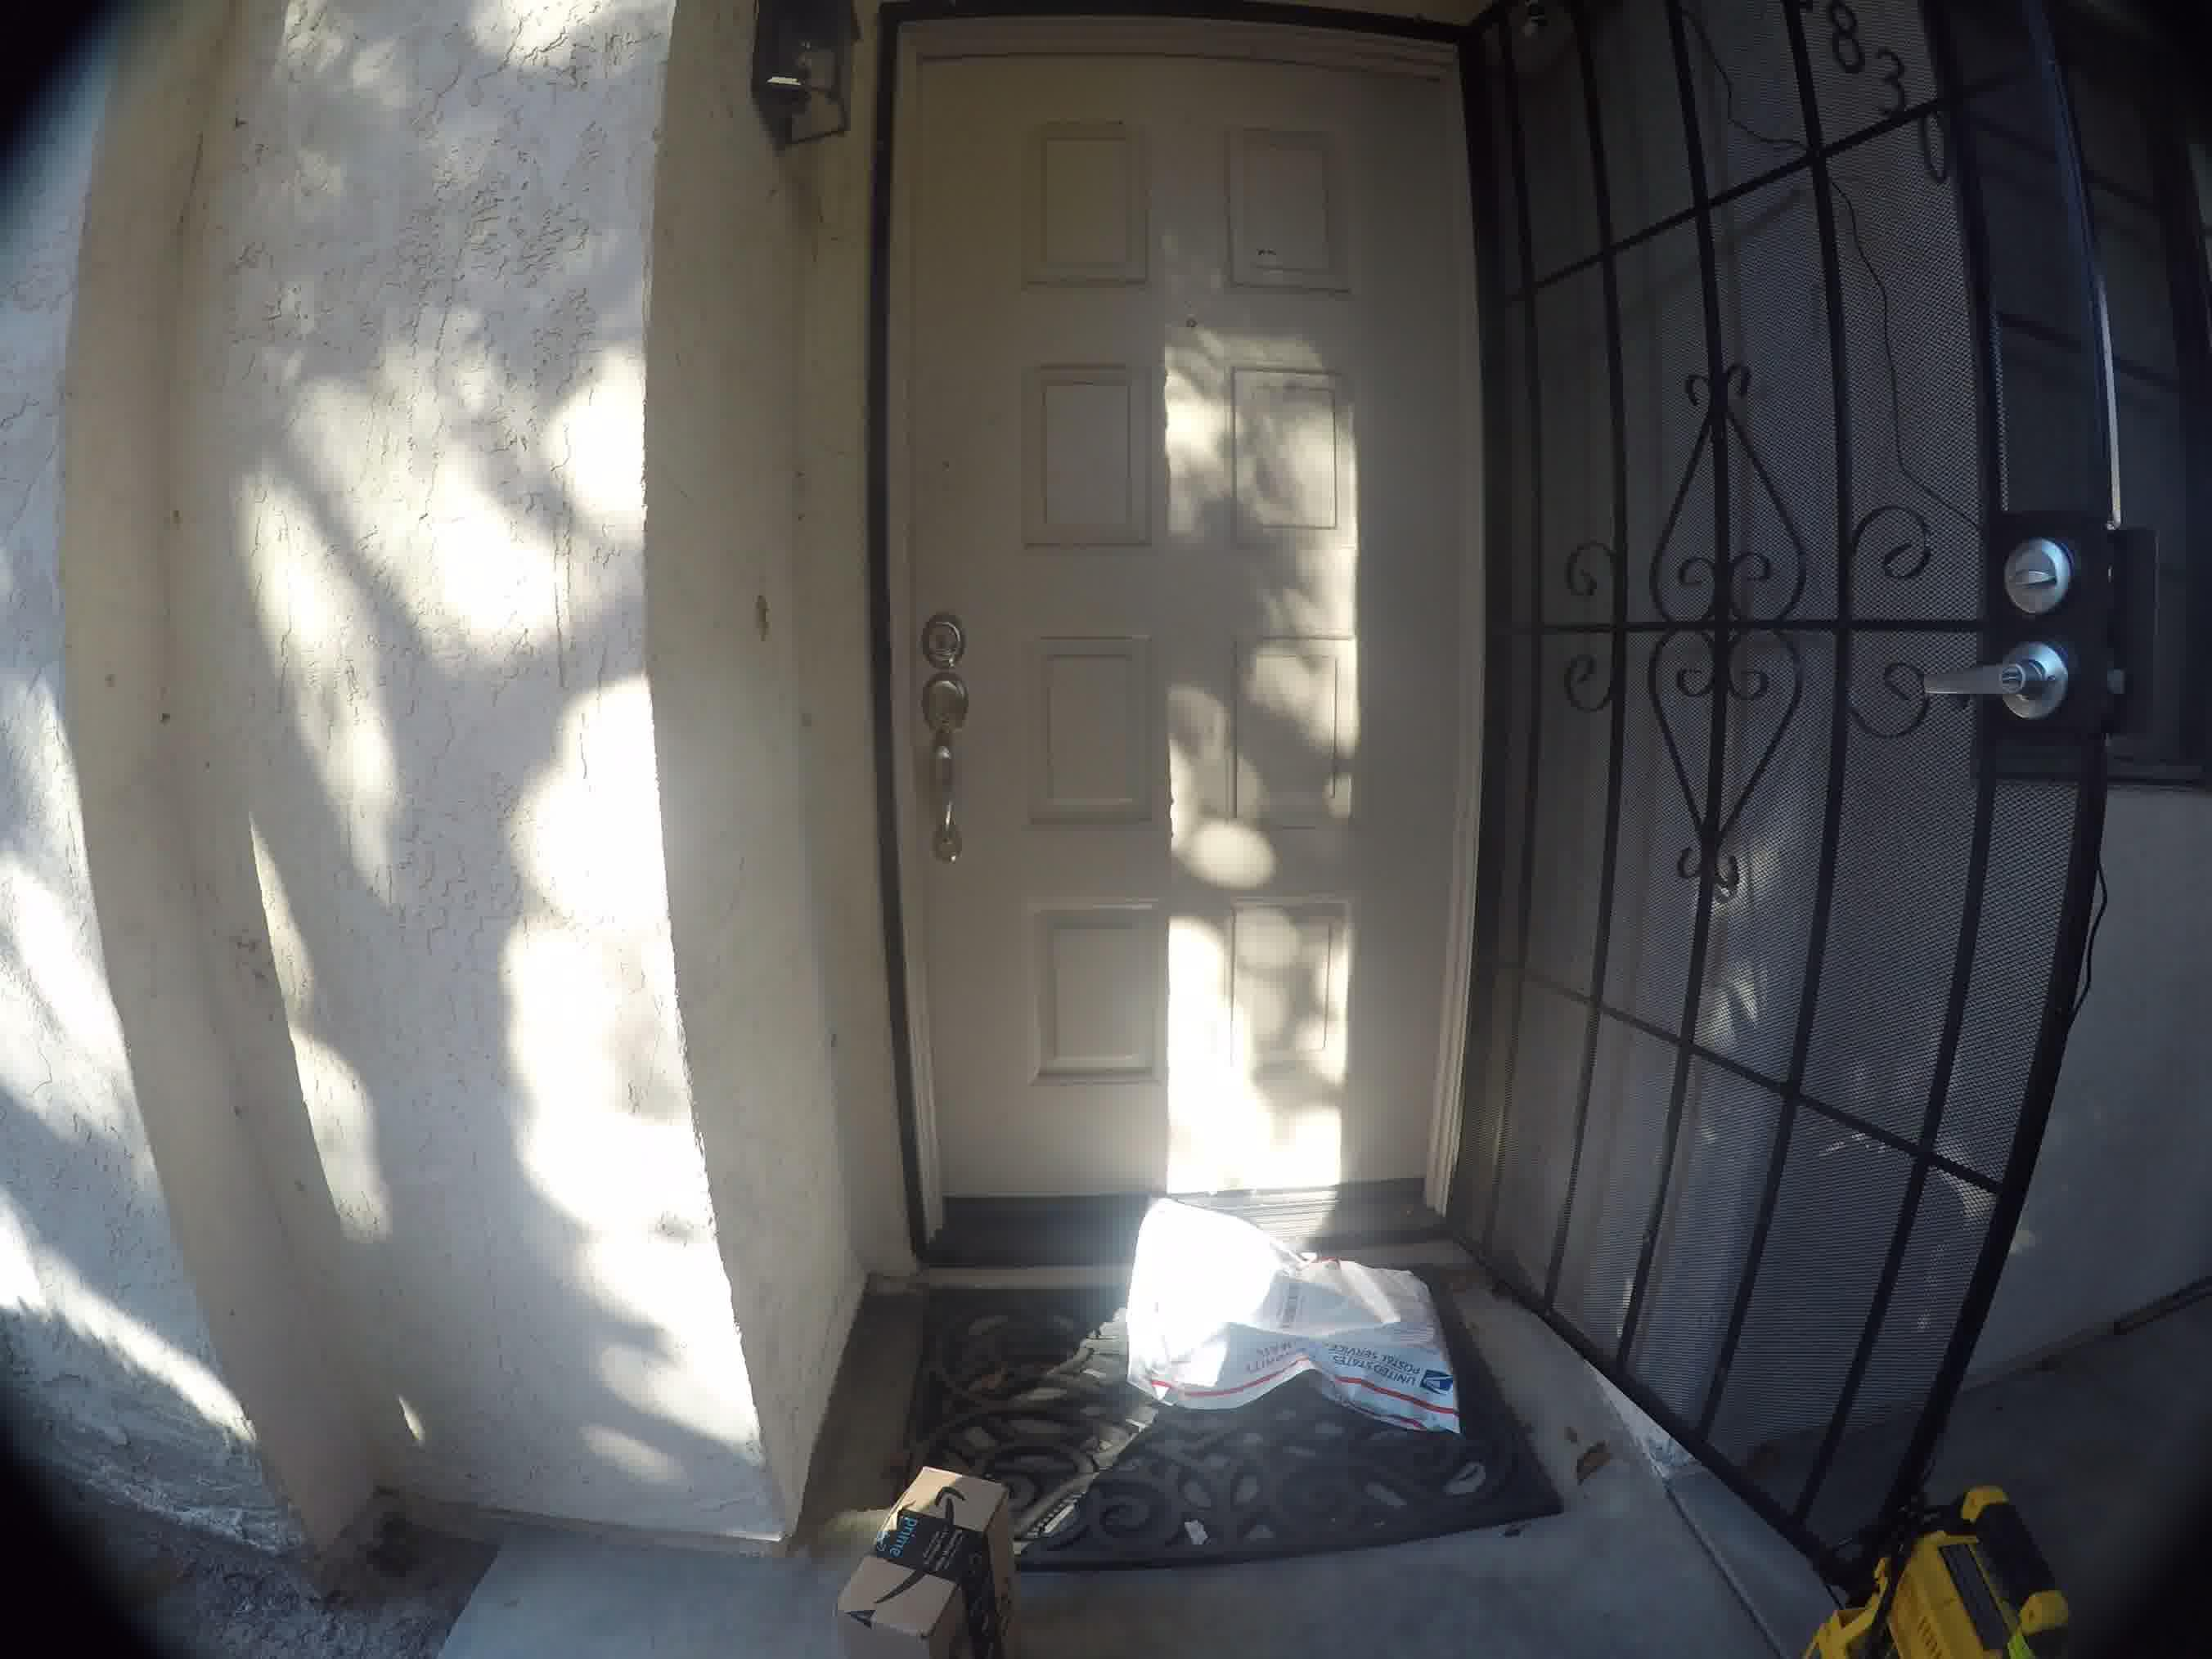box: (831, 1429, 1031, 1643)
plastic_bag: (1125, 1162, 1498, 1464)
